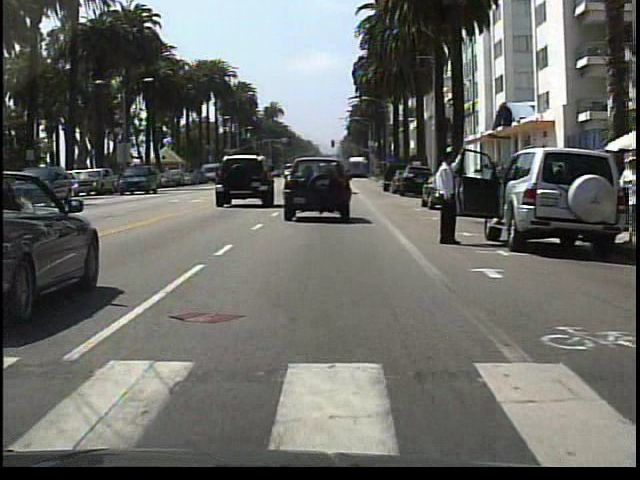person: (425, 142, 466, 255)
